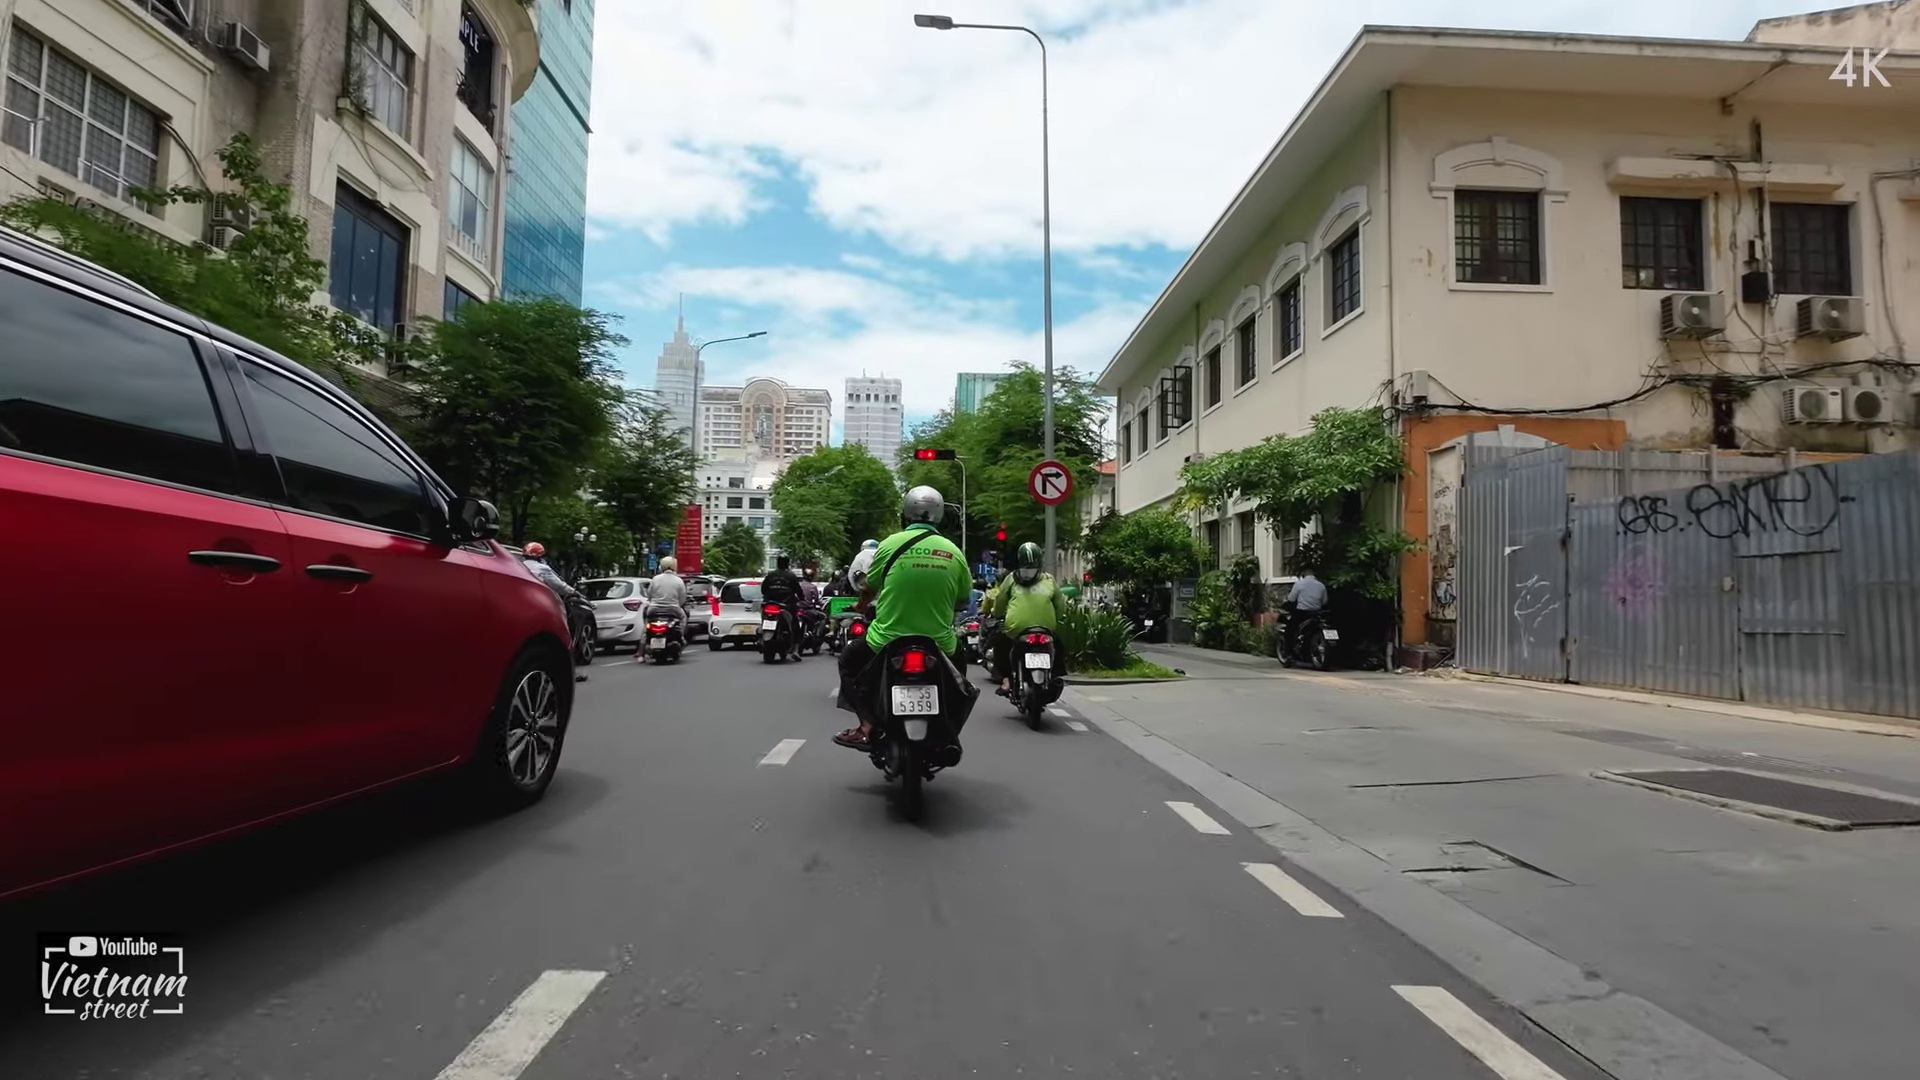cam_re_phai: (1025, 456, 1073, 509)
